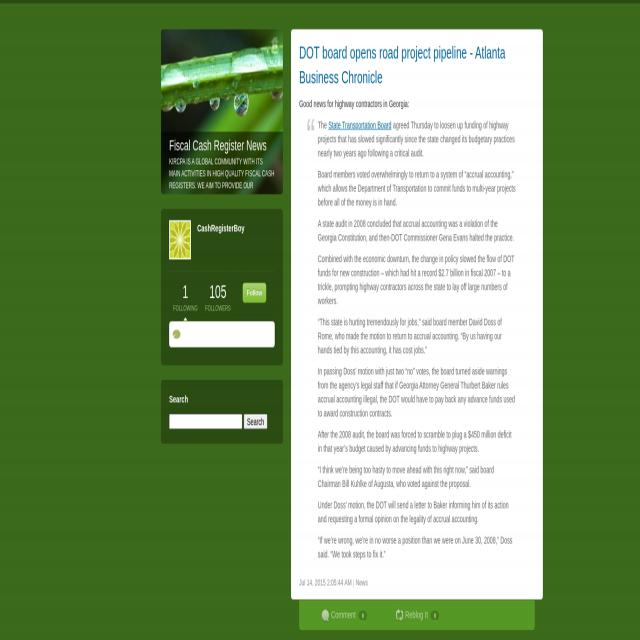button: (161, 29, 283, 194), (169, 220, 191, 261), (321, 607, 367, 623), (395, 607, 439, 623), (242, 284, 267, 304), (244, 414, 267, 429), (172, 326, 181, 344)
field: (169, 321, 275, 346), (170, 414, 242, 429)
